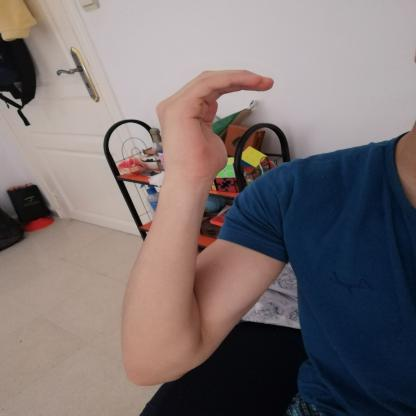HAA: (133, 59, 290, 187)
